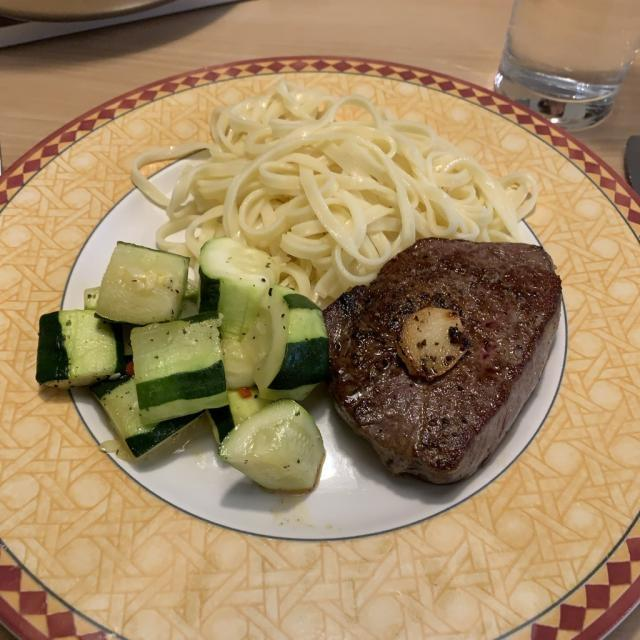beef: (331, 241, 557, 477)
cucumber: (39, 241, 325, 489)
pasta: (161, 91, 524, 289)
